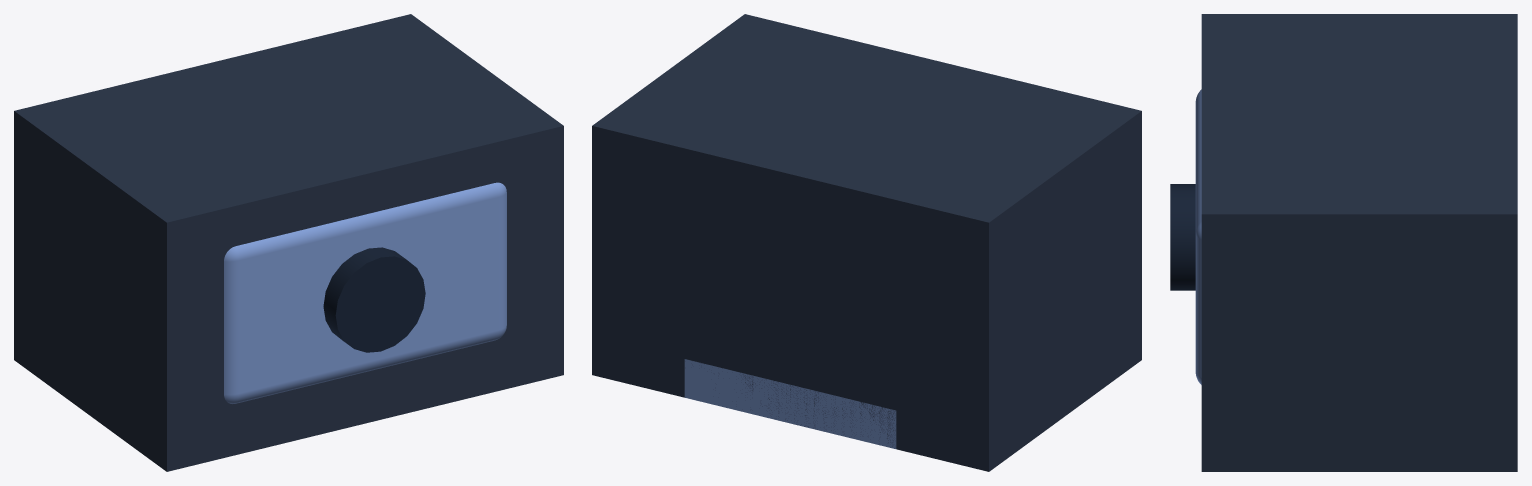
The picture shows the model from 3 angles, left to right: view 1: azimuth 30°, elevation 25°; view 2: azimuth 150°, elevation 25°; view 3: azimuth 270°, elevation 25°; orthographic projection. The views are drawn at different scales.
Visible parts, largest first — view 1: camera-body, camera-front-plate, camera-lens; view 2: camera-body, camera-heel; view 3: camera-body, camera-lens, camera-front-plate.
Part boxes in pixels (left/top/right/bottom): camera-body: left=14, top=14, right=563, bottom=471; camera-front-plate: left=224, top=182, right=506, bottom=403; camera-lens: left=323, top=247, right=425, bottom=352; camera-body: left=592, top=14, right=1141, bottom=471; camera-heel: left=684, top=359, right=896, bottom=448; camera-body: left=1201, top=14, right=1517, bottom=471; camera-lens: left=1170, top=184, right=1195, bottom=290; camera-front-plate: left=1195, top=89, right=1201, bottom=384.
Bounding box in the file's own units: 0.15 × 0.09 × 0.11.
